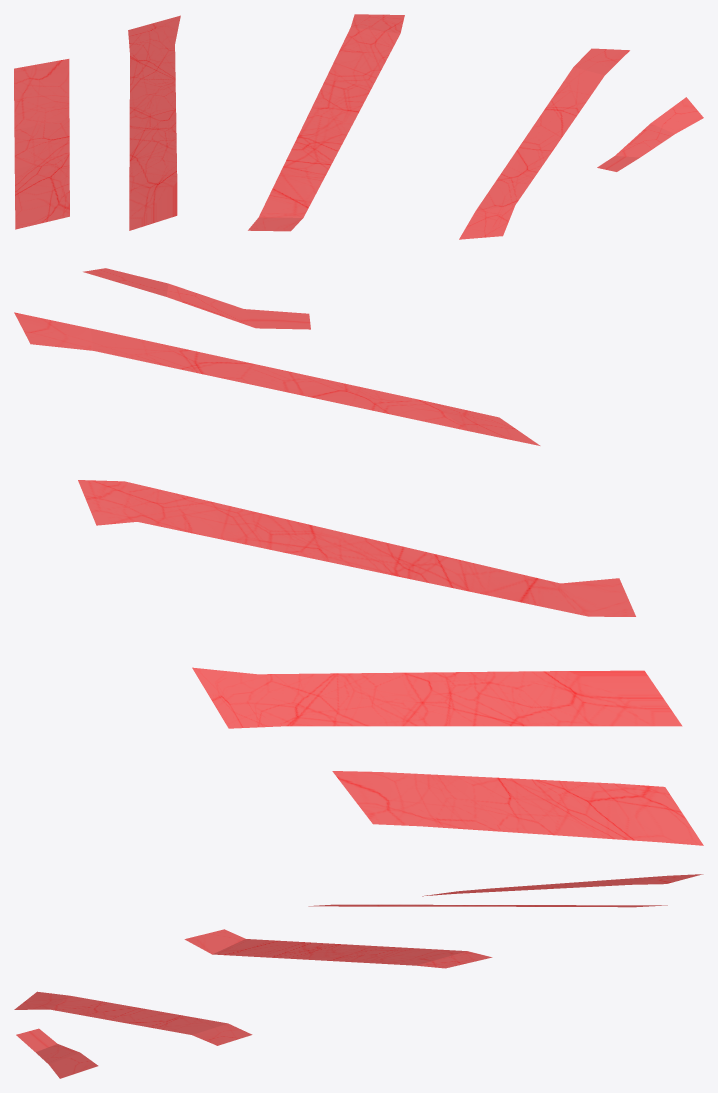
Rendered from Seam points brushina.FBX.
The picture shows the model from 3 angles, top to bottom: view 1: azimuth 30°, elevation 25°; view 2: azimuth 150°, elevation 25°; view 3: azimuth 270°, elevation 25°; orthographic projection. The views are drawn at different scales.
Visible parts, largest first — view 1: point 3, point 4, point 2, point 18 (×2), point 17, point 16, point 15, point 14, point 13, point 7, point 8, point 9 (+14 smaller); view 2: point 7, point 2, point 8, point 3, point 9, point 10, point 4, point 6, point 18 (×2), point 11, point 17, point 16 (+14 smaller); view 3: point 18 (×2), point 12, point 16, point 17, point 14, point 13, point 15, point 22, point 23, point 21, point 20, point 26 (+6 smaller).
Part boxes in pixels (<box>): point 3: <box>14,118,69,168</box>; point 4: <box>14,81,69,129</box>; point 2: <box>14,156,69,207</box>; point 18 (×2): <box>351,14,515,239</box>; point 17: <box>332,27,399,70</box>; point 16: <box>314,65,380,107</box>; point 15: <box>295,103,361,143</box>; point 14: <box>277,141,342,180</box>; point 13: <box>258,179,322,217</box>; point 7: <box>129,148,177,200</box>; point 8: <box>129,114,176,163</box>; point 9: <box>129,79,176,127</box>; point 7: <box>492,671,613,726</box>; point 2: <box>540,780,659,842</box>; point 8: <box>414,671,531,726</box>; point 3: <box>460,776,579,836</box>; point 9: <box>336,672,448,726</box>; point 10: <box>258,673,366,726</box>; point 4: <box>380,772,500,831</box>; point 6: <box>570,670,682,726</box>; point 18 (×2): <box>78,402,540,525</box>; point 11: <box>192,667,284,728</box>; point 17: <box>125,481,227,540</box>; point 16: <box>212,502,317,559</box>; point 18 (×2): <box>14,951,492,1009</box>; point 12: <box>184,929,245,954</box>; point 16: <box>335,946,422,963</box>; point 17: <box>376,948,466,965</box>; point 14: <box>254,941,334,958</box>; point 13: <box>212,939,289,956</box>; point 15: <box>294,944,377,961</box>; point 22: <box>157,1016,227,1034</box>; point 23: <box>192,1023,252,1045</box>; point 21: <box>121,1009,188,1028</box>; point 20: <box>86,1002,148,1022</box>; point 26: <box>49,1052,98,1078</box>.
Size of the model in its own units: 32.13 by 7.32 by 29.95.
